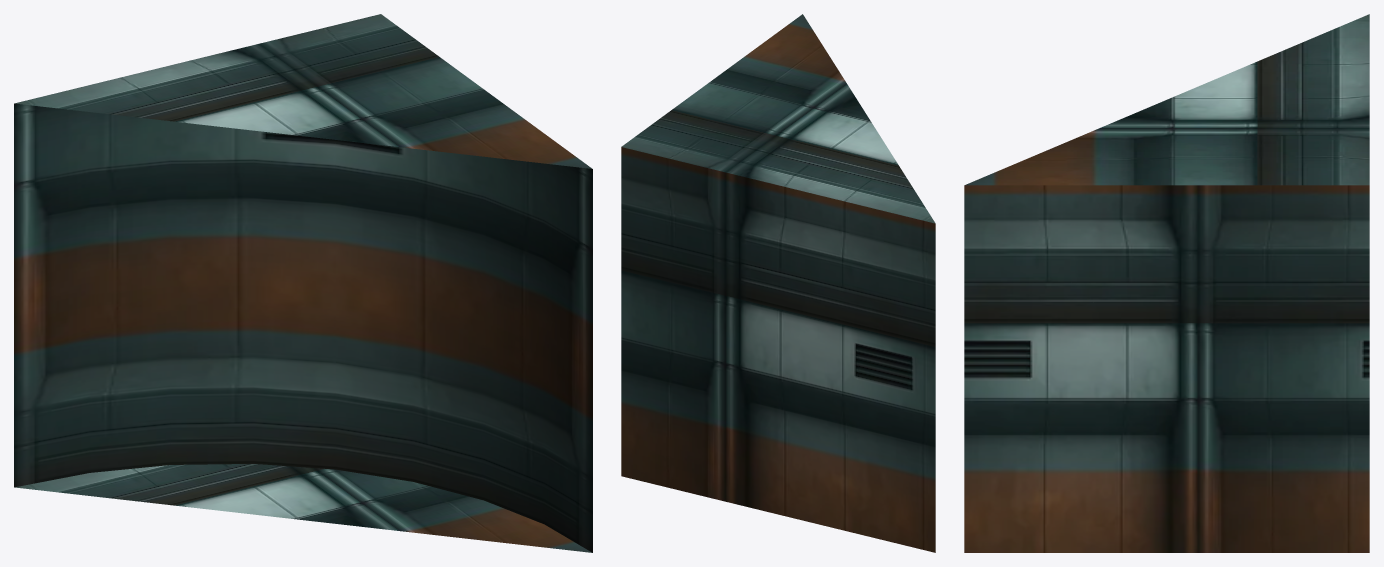
The picture shows the model from 3 angles, left to right: view 1: azimuth 30°, elevation 25°; view 2: azimuth 150°, elevation 25°; view 3: azimuth 270°, elevation 25°; orthographic projection. The views are drawn at different scales.
Visible parts, largest first — view 1: Round inner corner; view 2: Round inner corner; view 3: Round inner corner.
Boxes of the visible parts, x1,y1,x2,y2 form: Round inner corner: (14,14,592,552); Round inner corner: (621,14,935,552); Round inner corner: (964,14,1369,552).
Bounding box in the file's own units: 2 × 2 × 2.
1 material, 1 textured.
